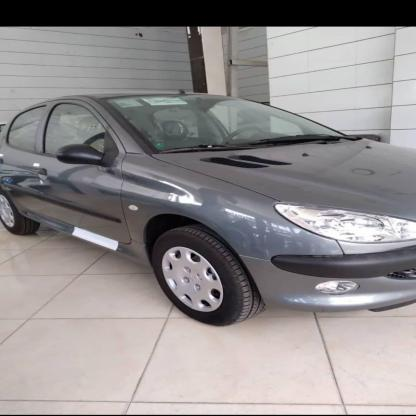Car: (0, 86, 416, 328)
